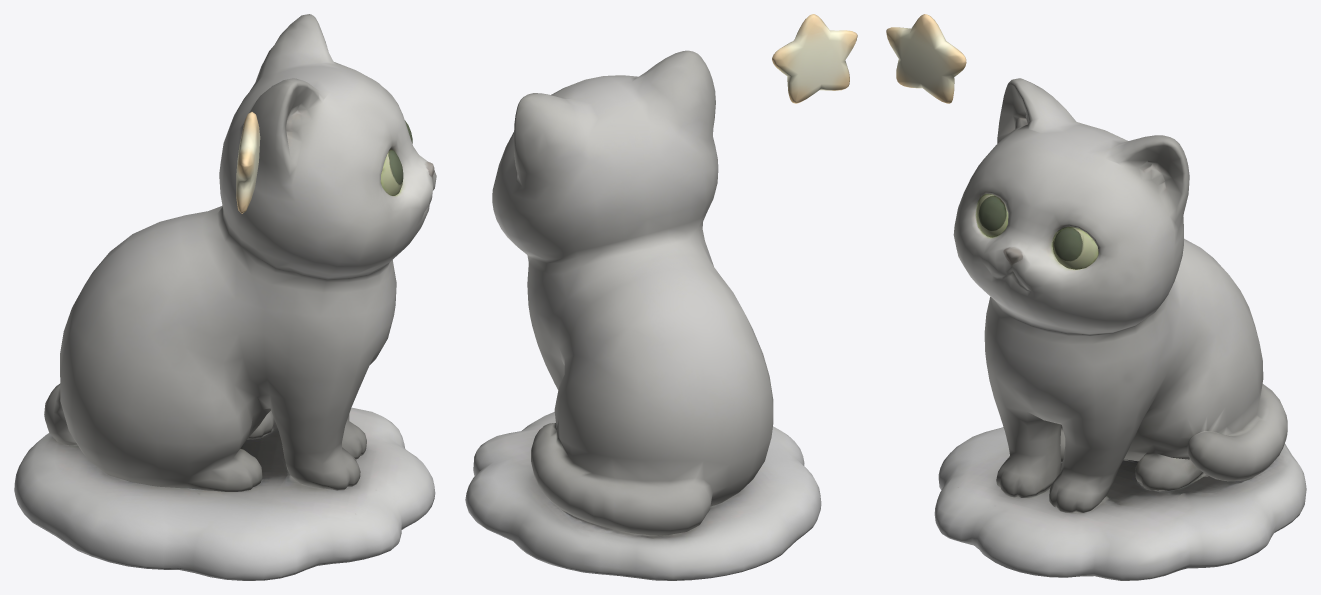
Rendered from figurine-cat-star.glb.
3 views of the same model, side by side, from view 1: azimuth 30°, elevation 25°; view 2: azimuth 150°, elevation 25°; view 3: azimuth 270°, elevation 25° (orthographic). The views are drawn at different scales.
Visible parts, largest first — view 1: tripo_node_d850d25b-8565-43c2-8cf2-49d52ba57208; view 2: tripo_node_d850d25b-8565-43c2-8cf2-49d52ba57208; view 3: tripo_node_d850d25b-8565-43c2-8cf2-49d52ba57208.
Part boxes in pixels (bbox=[...]): tripo_node_d850d25b-8565-43c2-8cf2-49d52ba57208: bbox=[14, 14, 436, 580]; tripo_node_d850d25b-8565-43c2-8cf2-49d52ba57208: bbox=[465, 14, 857, 580]; tripo_node_d850d25b-8565-43c2-8cf2-49d52ba57208: bbox=[886, 14, 1306, 580].
Bounding box in the file's own units: 0.7607 × 0.9995 × 0.8403.
Materials: 1 (1 with a texture image).
